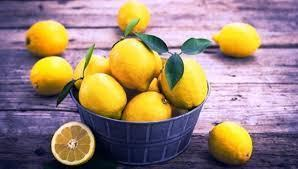lemon: (110, 38, 156, 91), (160, 58, 207, 109), (78, 72, 126, 119), (51, 122, 95, 166), (208, 122, 252, 164), (211, 24, 260, 57), (30, 56, 72, 94), (26, 21, 68, 57), (121, 92, 171, 122), (73, 55, 109, 89), (117, 2, 150, 33)
